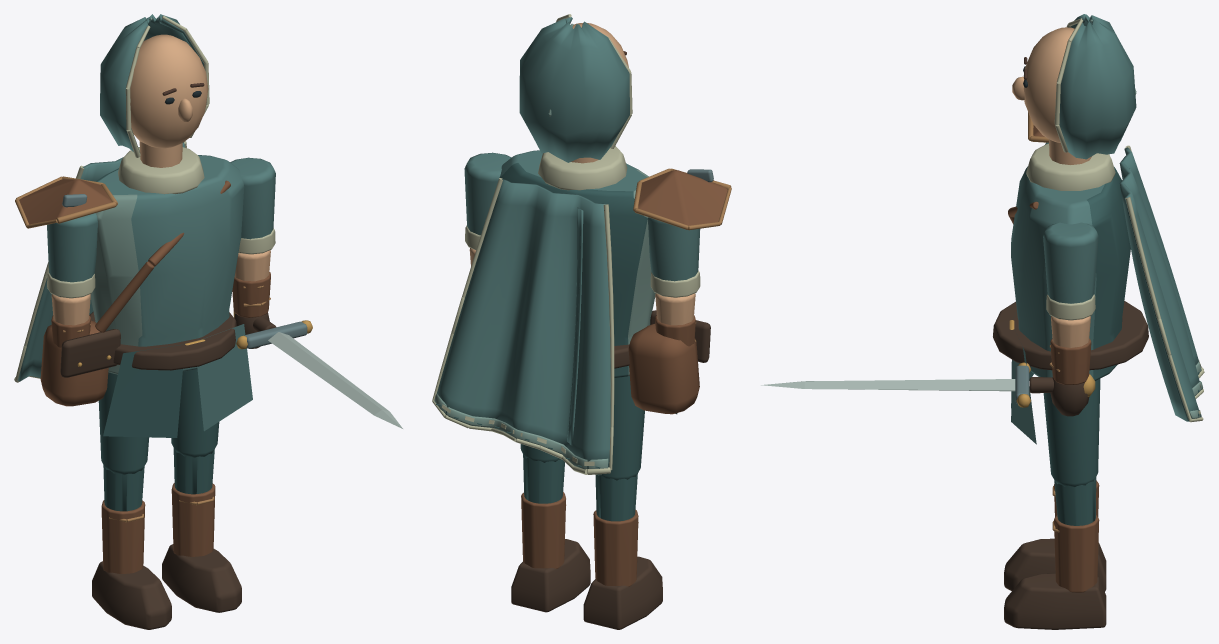
Rendered from hero-low.glb.
3 renders of one model, left to right at view 1: azimuth 30°, elevation 25°; view 2: azimuth 150°, elevation 25°; view 3: azimuth 270°, elevation 25°, orthographic. The views are drawn at different scales.
Parts seen in each view (by area): view 1: heroLow_body_05, heroLow_body_11, heroLow_body_10, heroLow_body_08, heroLow_body_09, heroLow_kneeR_28, heroLow_kneeL_25, heroLow_armL_00, heroLow_body_07, heroLow_armR_04, heroLow_kneeR_27, heroLow_kneeL_24 (+13 smaller); view 2: heroLow_cape_15, heroLow_body_05, heroLow_body_06, heroLow_body_09, heroLow_armL_02, heroLow_armL_00, heroLow_kneeL_25, heroLow_kneeR_28, heroLow_kneeR_27, heroLow_kneeL_24, heroLow_legL_29, heroLow_armR_04 (+7 smaller); view 3: heroLow_body_05, heroLow_cape_15, heroLow_body_06, heroLow_armR_04, heroLow_kneeR_28, heroLow_legR_30, heroLow_body_11, heroLow_body_10, heroLow_kneeR_27, heroLow_tempered_blade, heroLow_kneeL_25, heroLow_kneeR_26 (+4 smaller).
Part boxes in pixels (x1=…): heroLow_body_05: x1=90, y1=14, x2=244, y2=374; heroLow_body_11: x1=130, y1=34, x2=208, y2=167; heroLow_body_10: x1=60, y1=311, x2=236, y2=377; heroLow_body_08: x1=103, y1=344, x2=184, y2=437; heroLow_body_09: x1=40, y1=180, x2=230, y2=406; heroLow_kneeR_28: x1=162, y1=496, x2=241, y2=612; heroLow_kneeL_25: x1=92, y1=514, x2=171, y2=629; heroLow_armL_00: x1=47, y1=213, x2=97, y2=298; heroLow_body_07: x1=197, y1=324, x2=252, y2=431; heroLow_armR_04: x1=230, y1=157, x2=275, y2=254; heroLow_kneeR_27: x1=171, y1=483, x2=215, y2=556; heroLow_kneeL_24: x1=101, y1=500, x2=145, y2=573; heroLow_cape_15: x1=432, y1=178, x2=614, y2=474; heroLow_body_05: x1=499, y1=14, x2=655, y2=376; heroLow_body_06: x1=501, y1=163, x2=647, y2=377; heroLow_body_09: x1=628, y1=324, x2=699, y2=414; heroLow_armL_02: x1=638, y1=170, x2=727, y2=225; heroLow_armL_00: x1=647, y1=217, x2=700, y2=297; heroLow_kneeL_25: x1=583, y1=522, x2=662, y2=629; heroLow_kneeR_28: x1=511, y1=505, x2=590, y2=612; heroLow_kneeR_27: x1=521, y1=492, x2=565, y2=568; heroLow_kneeL_24: x1=593, y1=509, x2=638, y2=586; heroLow_legL_29: x1=597, y1=376, x2=644, y2=480; heroLow_armR_04: x1=464, y1=152, x2=511, y2=249; heroLow_body_05: x1=1011, y1=14, x2=1136, y2=377; heroLow_cape_15: x1=1119, y1=145, x2=1204, y2=422; heroLow_body_06: x1=1087, y1=167, x2=1130, y2=380; heroLow_armR_04: x1=1043, y1=222, x2=1098, y2=320; heroLow_kneeR_28: x1=1004, y1=521, x2=1106, y2=629; heroLow_legR_30: x1=1043, y1=379, x2=1100, y2=486; heroLow_body_11: x1=1012, y1=27, x2=1091, y2=164; heroLow_body_10: x1=993, y1=301, x2=1148, y2=370; heroLow_kneeR_27: x1=1054, y1=515, x2=1099, y2=592; heroLow_tempered_blade: x1=761, y1=379, x2=1015, y2=391; heroLow_kneeL_25: x1=1004, y1=486, x2=1106, y2=591; heroLow_kneeR_26: x1=1054, y1=477, x2=1096, y2=525.
Size of the model in its own units: 1.09 by 2.27 by 1.56.
